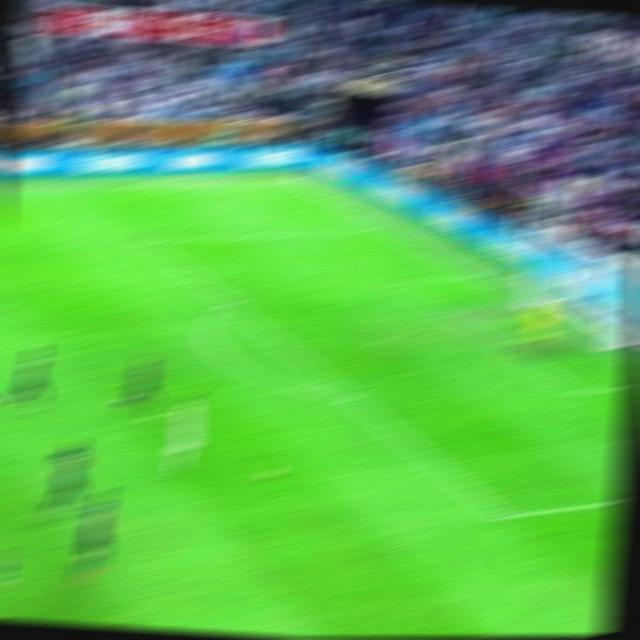bigarea_bottom_inner: (484, 501, 517, 529)
bigarea_top_inner: (134, 230, 163, 249)
bigarea_top_outter: (371, 220, 398, 235)
bottom_arc_area_intersection: (336, 387, 363, 407)
corner: (282, 174, 311, 185)
smallarea_bottom_inner: (560, 379, 594, 403)
smallarea_top_inner: (381, 273, 409, 292)
smallarea_top_outter: (458, 266, 486, 283)
top_arc_area_intersection: (214, 292, 244, 313)
